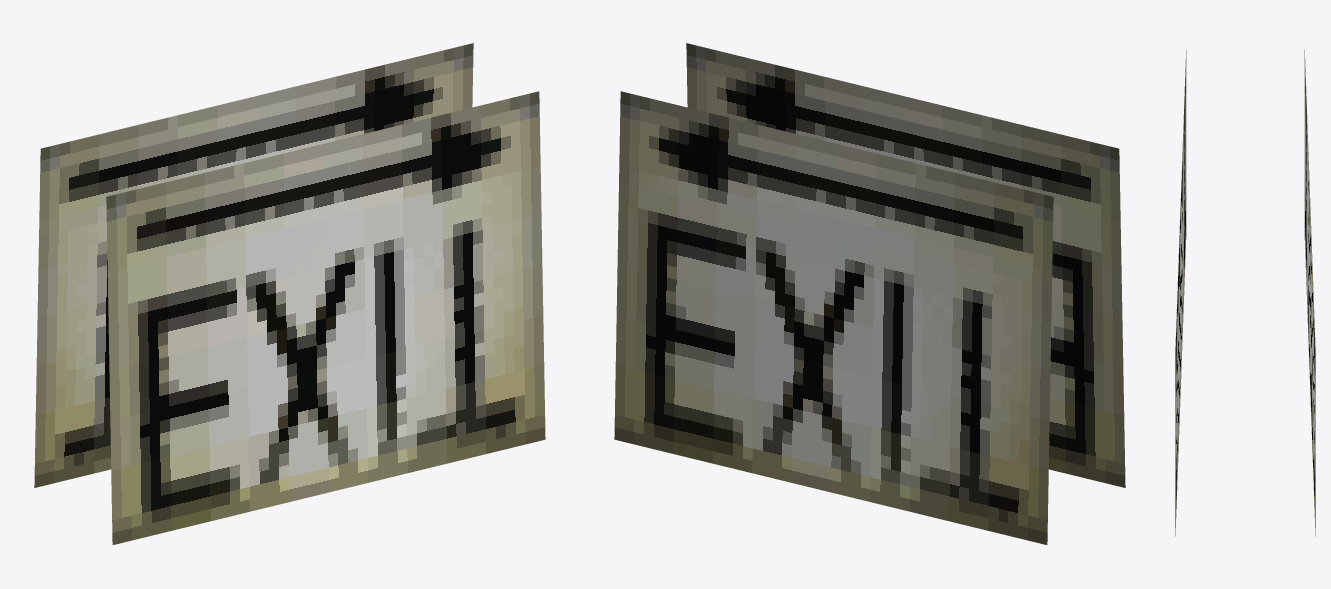
The model's file is exit_hang2_arrows.fbx.
3 views of the same model, side by side, from view 1: azimuth 30°, elevation 25°; view 2: azimuth 150°, elevation 25°; view 3: azimuth 270°, elevation 25° (orthographic). The views are drawn at different scales.
Parts seen in each view (by area): view 1: mesh_0; view 2: mesh_0; view 3: mesh_0.
Boxes of the visible parts, x1=… form: mesh_0: x1=34, y1=43, x2=545, y2=544; mesh_0: x1=614, y1=43, x2=1125, y2=544; mesh_0: x1=1175, y1=50, x2=1315, y2=536.
Size of the model in its own units: 45.78 by 36.41 by 13.26.
1 material, 1 textured.
